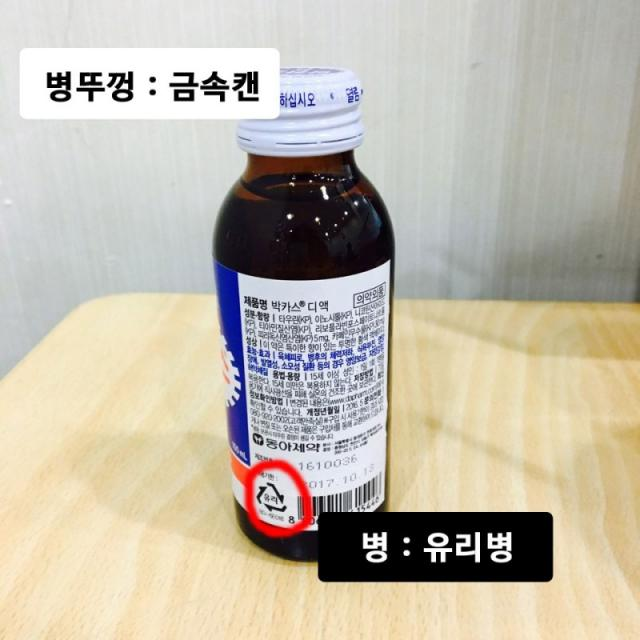Glass: (256, 480, 288, 515)
